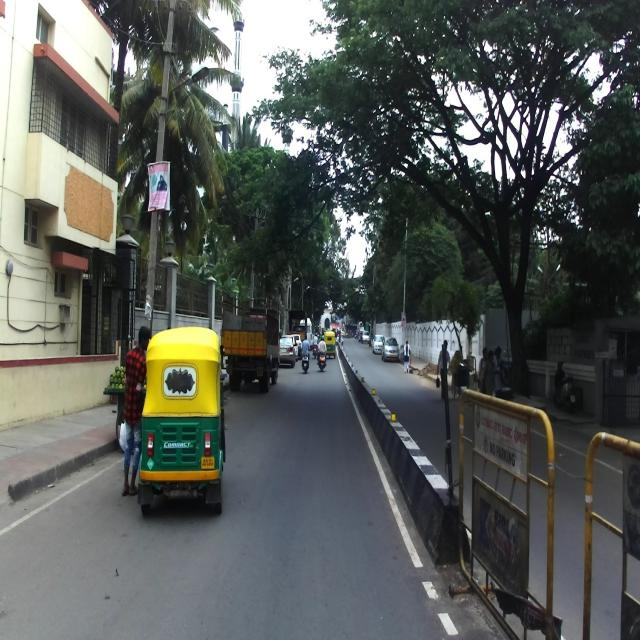autorickshaw: (135, 324, 228, 517)
